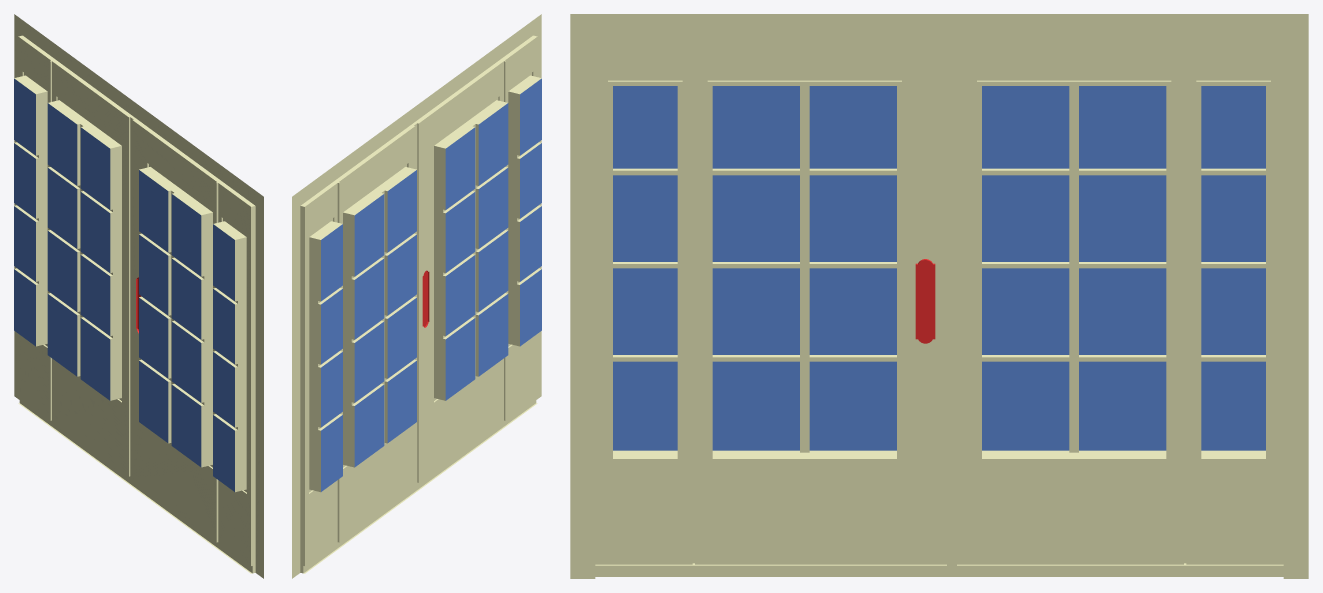
File: uploads_files_3206874_Door.fbx
The picture shows the model from 3 angles, left to right: view 1: azimuth 30°, elevation 25°; view 2: azimuth 150°, elevation 25°; view 3: azimuth 270°, elevation 25°; orthographic projection. The views are drawn at different scales.
Parts seen in each view (by area): view 1: Model; view 2: Model; view 3: Model.
Boxes of the visible parts, x1,y1,x2,y2 form: Model: (14,14,263,578); Model: (292,14,541,578); Model: (570,14,1308,578).
Size of the model in its own units: 0.1 by 2.5 by 2.96.
